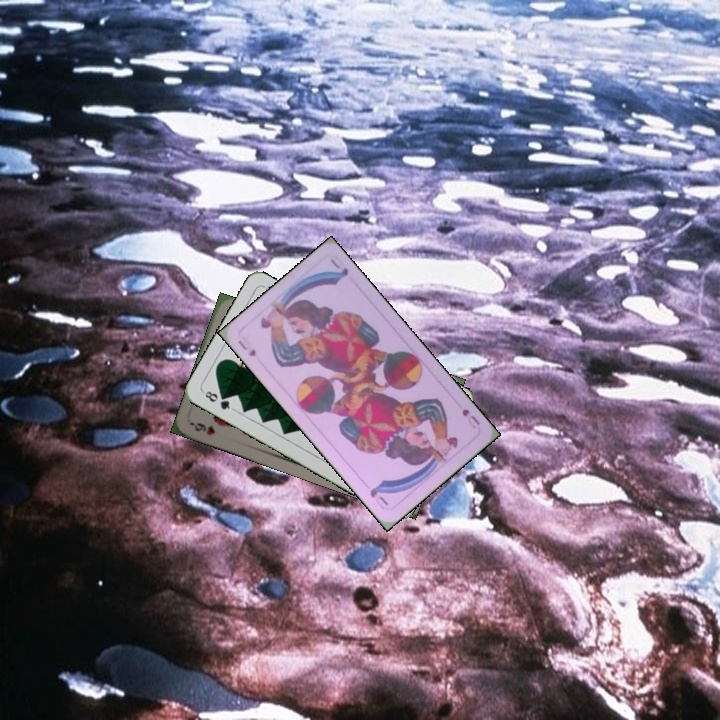G8: (199, 387, 236, 413)
H9: (189, 418, 218, 438)
SU: (458, 405, 482, 431), (234, 336, 259, 359)
